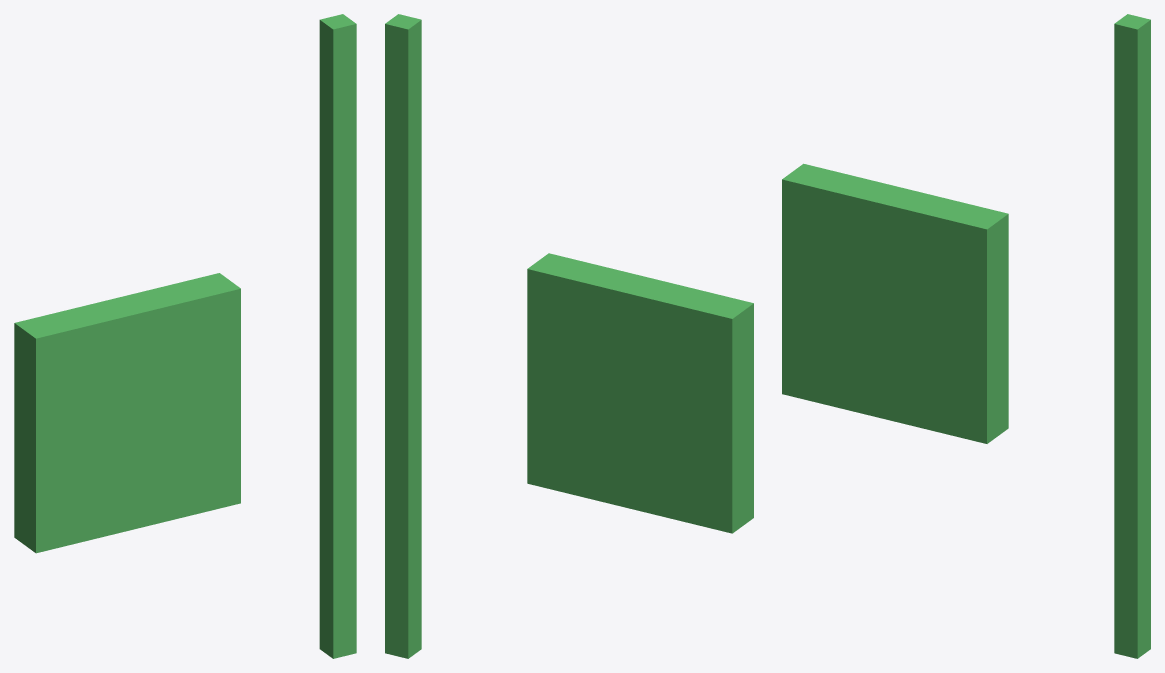
File: hoplite_role_kit_collision.glb
The picture shows the model from 3 angles, left to right: view 1: azimuth 30°, elevation 25°; view 2: azimuth 150°, elevation 25°; view 3: azimuth 330°, elevation 25°; orthographic projection.
Parts seen in each view (by area): view 1: hoplite_role_kit-col-shield, hoplite_role_kit-col-dory; view 2: hoplite_role_kit-col-shield, hoplite_role_kit-col-dory; view 3: hoplite_role_kit-col-shield, hoplite_role_kit-col-dory.
Part boxes in pixels (box(x1,y1,x2,y2)): hoplite_role_kit-col-shield: box(14, 273, 240, 553); hoplite_role_kit-col-dory: box(319, 14, 356, 658); hoplite_role_kit-col-shield: box(527, 253, 753, 533); hoplite_role_kit-col-dory: box(385, 14, 421, 658); hoplite_role_kit-col-shield: box(782, 163, 1008, 443); hoplite_role_kit-col-dory: box(1114, 14, 1150, 658).
Size of the model in its own units: 1.45 by 2.58 by 0.23.
